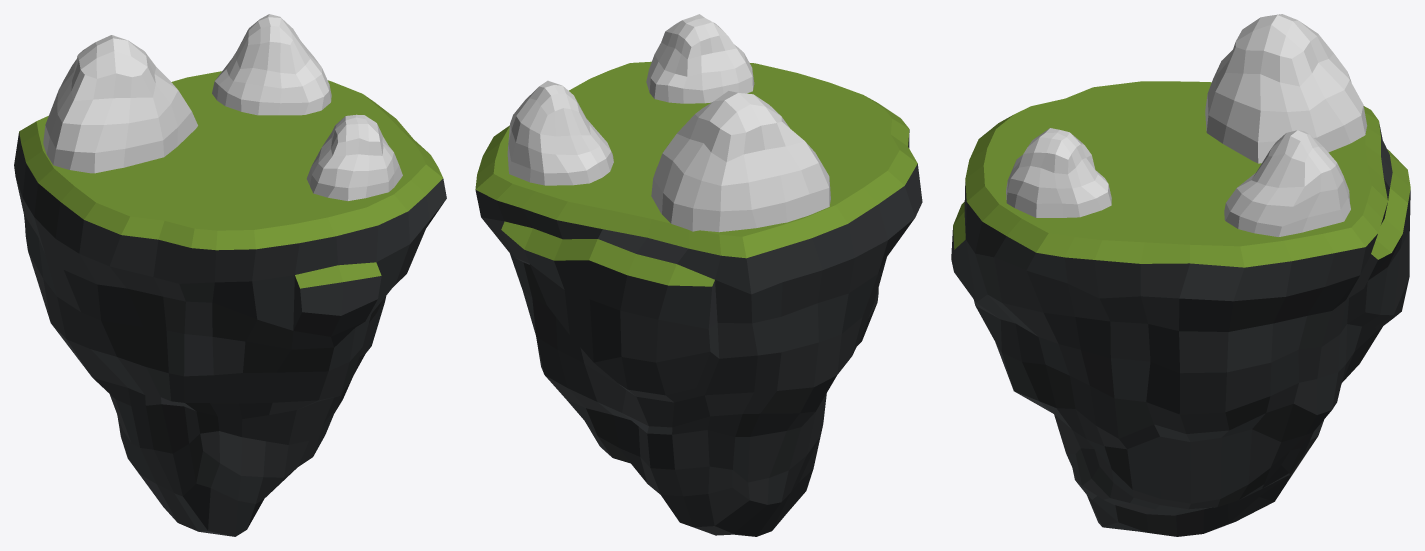
The model's file is OreIsland.fbx.
3 views of the same model, side by side, from view 1: azimuth 30°, elevation 25°; view 2: azimuth 150°, elevation 25°; view 3: azimuth 270°, elevation 25° (orthographic). The views are drawn at different scales.
Parts seen in each view (by area): view 1: OreIsland, OreIsland.003, OreIsland.002, OreIsland.001; view 2: OreIsland, OreIsland.003, OreIsland.002, OreIsland.001; view 3: OreIsland, OreIsland.003, OreIsland.002, OreIsland.001.
Boxes of the visible parts, x1,y1,x2,y2 form: OreIsland: [14, 71, 446, 536]; OreIsland.003: [43, 35, 197, 173]; OreIsland.002: [212, 14, 331, 115]; OreIsland.001: [306, 114, 402, 200]; OreIsland: [475, 61, 922, 536]; OreIsland.003: [651, 91, 830, 232]; OreIsland.002: [507, 80, 613, 185]; OreIsland.001: [646, 14, 754, 103]; OreIsland: [951, 81, 1410, 536]; OreIsland.003: [1205, 14, 1367, 163]; OreIsland.002: [1224, 130, 1350, 236]; OreIsland.001: [1006, 128, 1111, 217].
Size of the model in its own units: 5090 by 6285 by 5291.
